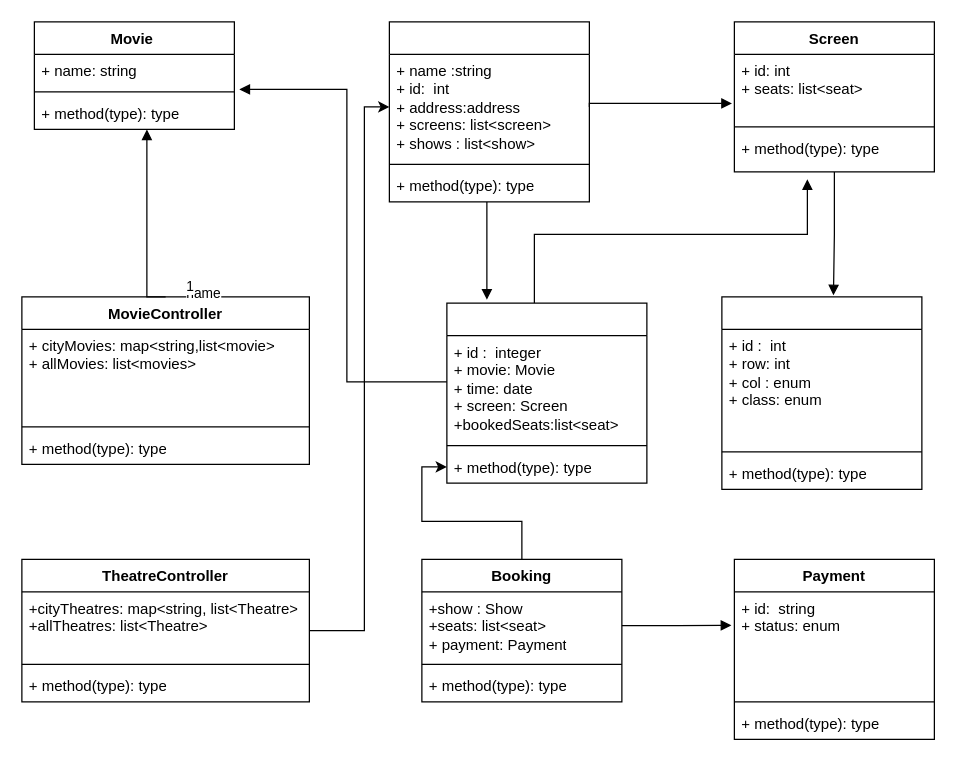
The diagram is 956 pixels wide and 765 high, and some of its shapes have lost their labels. Each missing label, with the box of its shape:
Seat: (721, 296, 922, 489)
Show: (446, 302, 647, 483)
Theatre: (388, 21, 589, 202)
